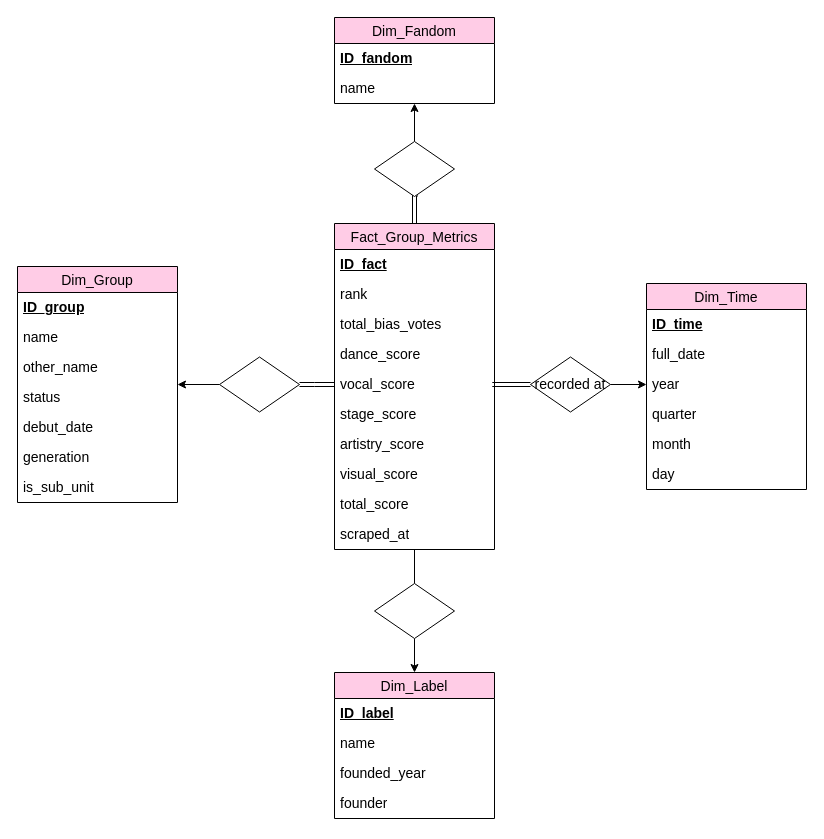
Some shapes in this 824 by 839 pixel diagram are drawn without their labels. The shapes that lost their labels are listed below. From the top down, each one's centre as x and y in pixels, then its label:
the point at 414,168: support by
the point at 259,384: measures
the point at 414,610: managed by
